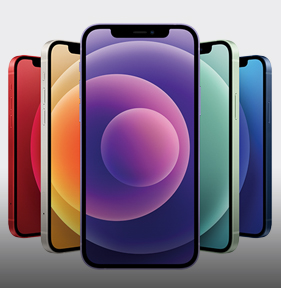phones: (77, 20, 203, 277)
